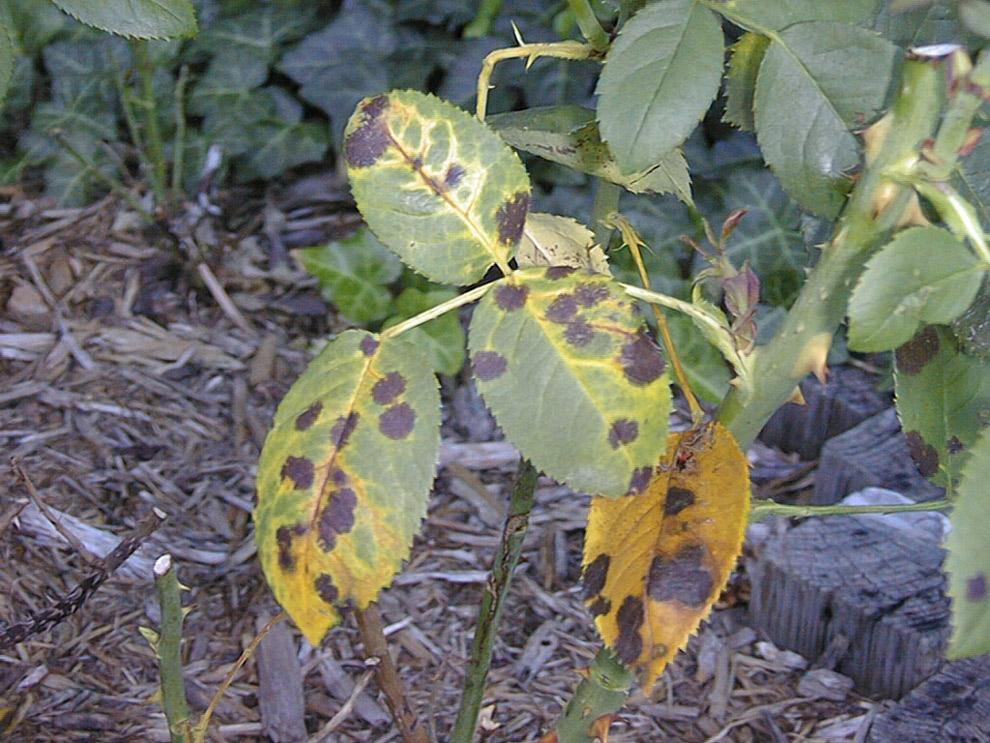Apple Scab Leaf: (249, 314, 449, 639), (469, 245, 679, 506), (591, 409, 749, 699), (324, 80, 521, 275)
